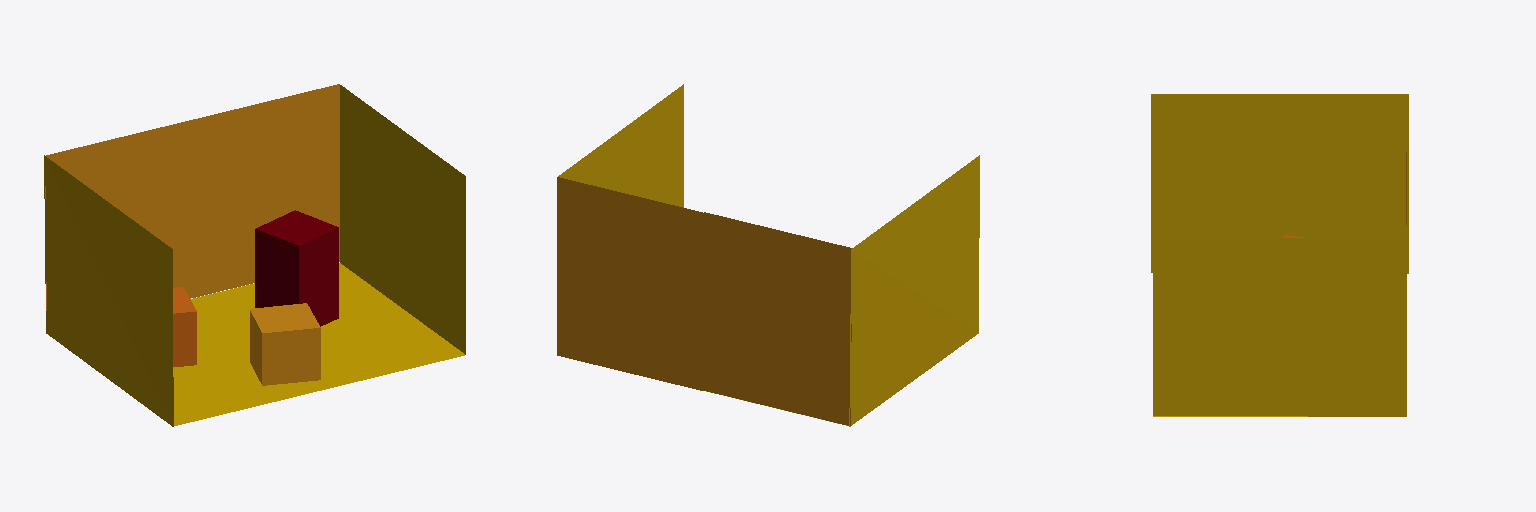
Rendered from EarthScene.obj.
3 renders of one model, left to right at view 1: azimuth 30°, elevation 25°; view 2: azimuth 150°, elevation 25°; view 3: azimuth 270°, elevation 25°, orthographic.
Visible parts, largest first — view 1: left_wall, right_wall, MirrorWall_back_wall, floor, back_wall_back_wall.001, tall_box.001, short_box.001, short_box; view 2: MirrorWall_back_wall, back_wall_back_wall.001, left_wall, right_wall; view 3: right_wall, left_wall.
Part boxes in pixels (left/top/right/bottom): left_wall: left=44, top=155, right=173, bottom=426; right_wall: left=340, top=85, right=465, bottom=354; MirrorWall_back_wall: left=194, top=84, right=339, bottom=297; floor: left=173, top=263, right=464, bottom=425; back_wall_back_wall.001: left=45, top=119, right=193, bottom=310; tall_box.001: left=255, top=210, right=338, bottom=326; short_box.001: left=250, top=303, right=320, bottom=385; short_box: left=173, top=287, right=196, bottom=366; MirrorWall_back_wall: left=557, top=177, right=704, bottom=390; back_wall_back_wall.001: left=704, top=212, right=851, bottom=425; left_wall: left=849, top=155, right=979, bottom=426; right_wall: left=558, top=84, right=683, bottom=207; right_wall: left=1153, top=238, right=1406, bottom=416; left_wall: left=1151, top=94, right=1408, bottom=273.
Bounding box in the file's own units: 9.49 × 5.54 × 7.17.